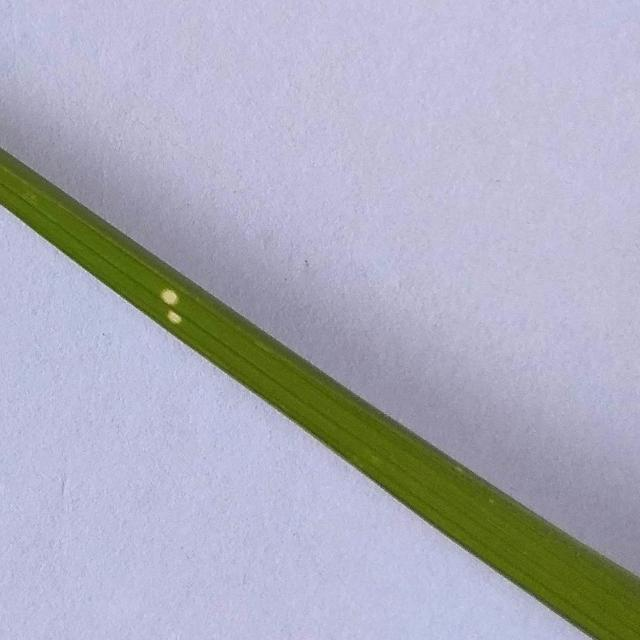Blast: (160, 286, 186, 328)
